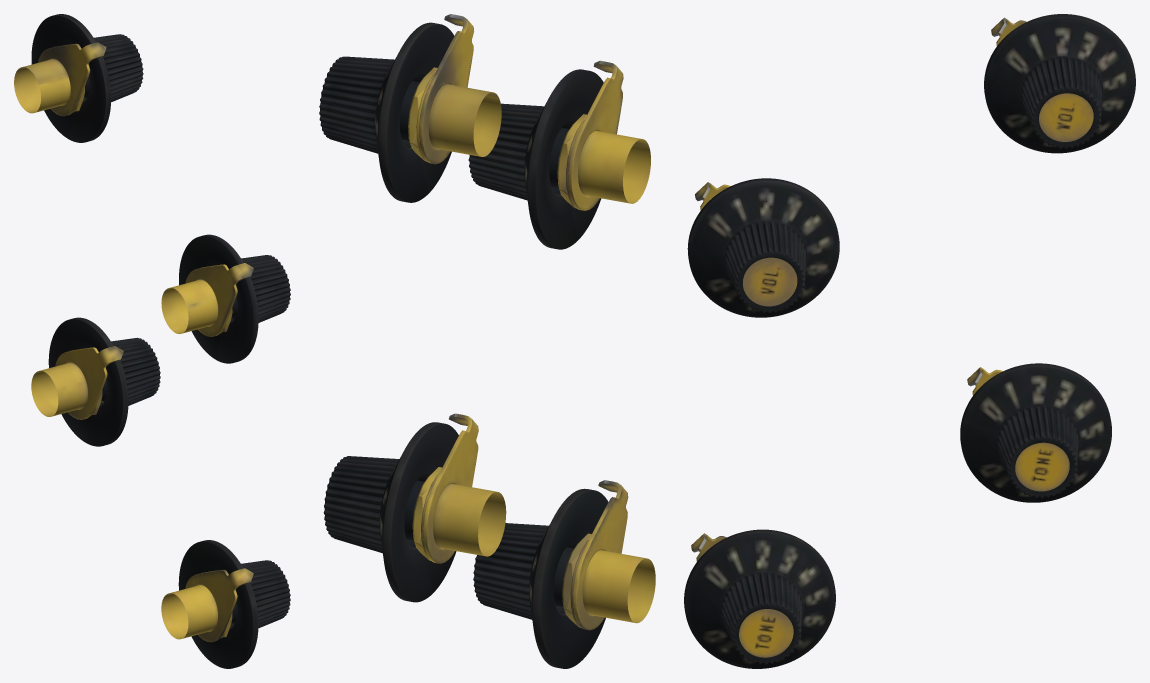
File: gibson_lespaul_BlackWH.min.glb
3 views of the same model, side by side, from view 1: azimuth 30°, elevation 25°; view 2: azimuth 150°, elevation 25°; view 3: azimuth 270°, elevation 25° (orthographic). The views are drawn at different scales.
Parts seen in each view (by area): view 1: defaultMaterial; view 2: defaultMaterial; view 3: defaultMaterial.
Part boxes in pixels (x1,y1,x2,y2): defaultMaterial: [14, 14, 290, 668]; defaultMaterial: [319, 14, 655, 668]; defaultMaterial: [684, 14, 1135, 668].
Size of the model in its own units: 0.1297 by 0.5379 by 0.3425.
Materials: 1 (1 with a texture image).
